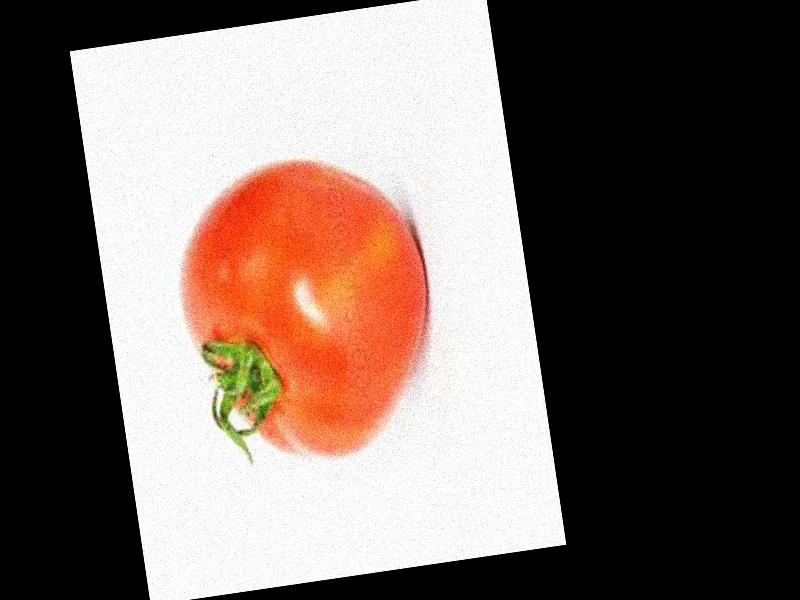Tomato: (160, 144, 448, 476)
